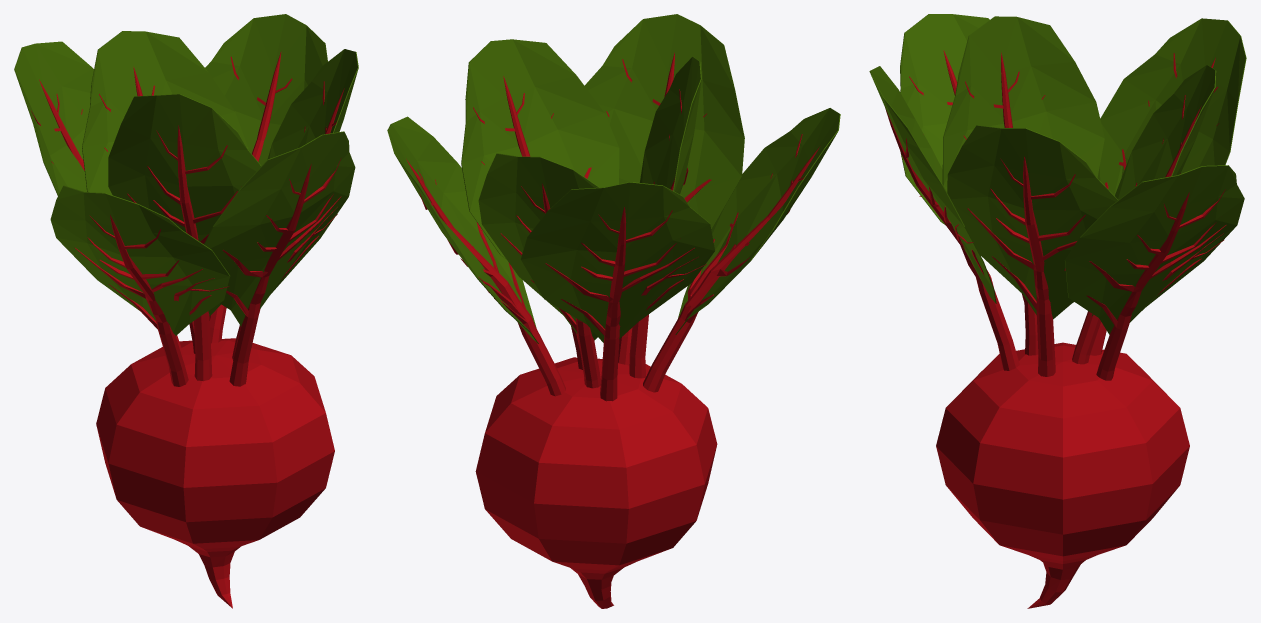
Rendered from beet.obj.
3 renders of one model, left to right at view 1: azimuth 30°, elevation 25°; view 2: azimuth 150°, elevation 25°; view 3: azimuth 270°, elevation 25°, orthographic. The views are drawn at different scales.
Bounding box in the file's own units: 2 × 3.07 × 1.88.
